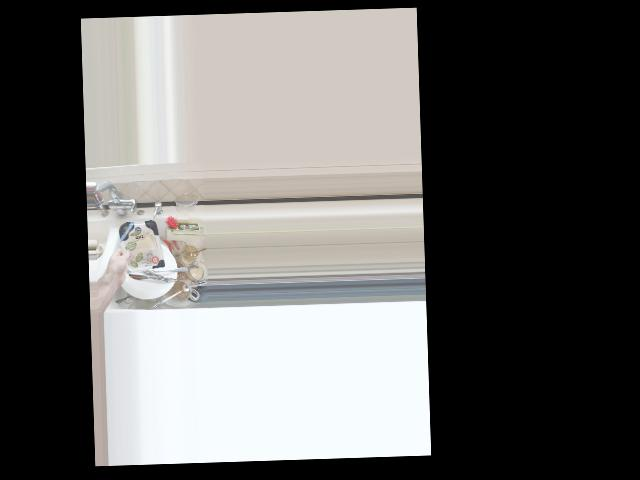cheese: (105, 216, 163, 282)
